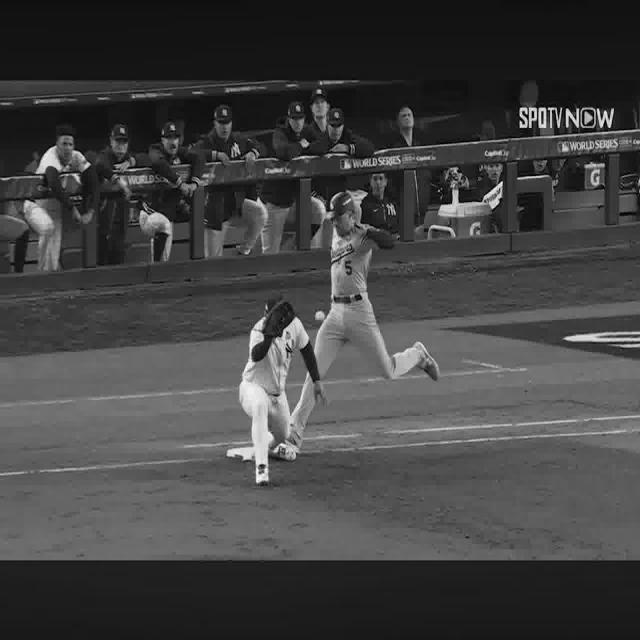base: (226, 447, 255, 462)
baseball: (314, 311, 326, 321)
baseball_glove: (262, 300, 295, 337)
shoe: (414, 342, 440, 382), (270, 442, 298, 462), (285, 427, 304, 448), (256, 466, 271, 484)
